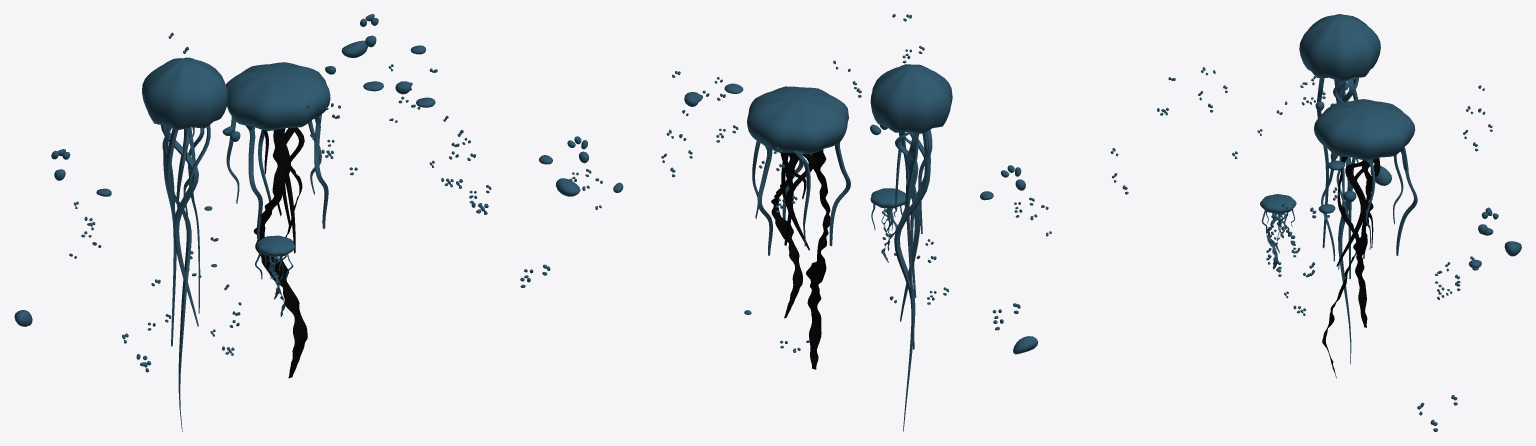
Rendered from Jelly.gltf.
3 renders of one model, left to right at view 1: azimuth 30°, elevation 25°; view 2: azimuth 150°, elevation 25°; view 3: azimuth 270°, elevation 25°, orthographic. The views are drawn at different scales.
Visible parts, largest first — view 1: JellyFish004, JellyFish003, Bubbles001, JellyFish006; view 2: JellyFish004, JellyFish003, Bubbles001, JellyFish006; view 3: JellyFish004, JellyFish003, Bubbles001, JellyFish006.
Part boxes in pixels (<box>): JellyFish004: <box>226,62,330,378</box>; JellyFish003: <box>142,57,228,431</box>; Bubbles001: <box>14,14,491,372</box>; JellyFish006: <box>255,235,294,316</box>; JellyFish004: <box>747,86,850,369</box>; JellyFish003: <box>870,64,952,431</box>; Bubbles001: <box>520,14,1128,354</box>; JellyFish006: <box>870,188,905,262</box>; JellyFish004: <box>1314,99,1417,378</box>; JellyFish003: <box>1299,14,1380,364</box>; Bubbles001: <box>1157,67,1521,431</box>; JellyFish006: <box>1260,194,1296,269</box>.
Size of the model in its own units: 12.47 by 8.9 by 8.47.
